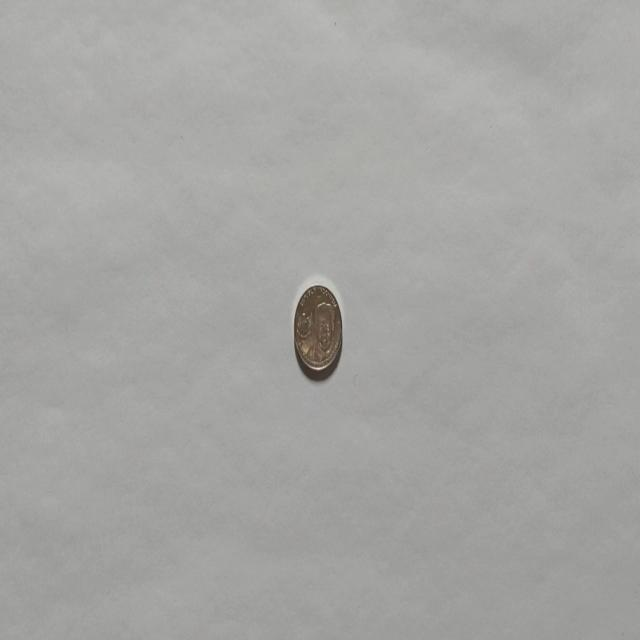seratus rupiah: (293, 283, 343, 377)
